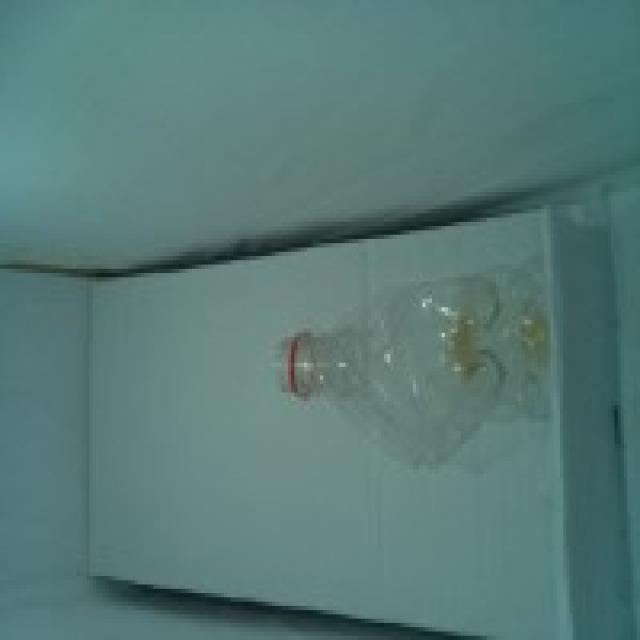plastic_bottle: (276, 266, 553, 468)
